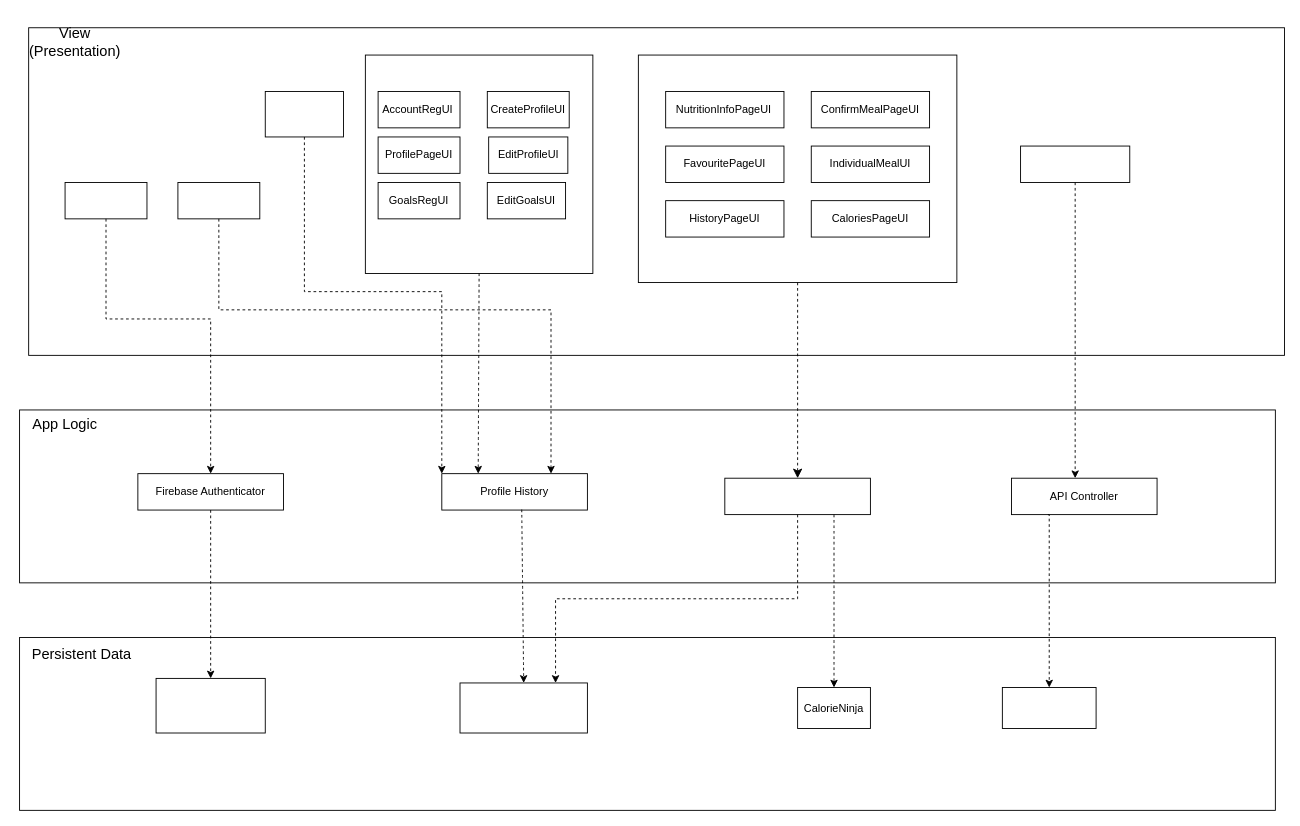
Some shapes in this 1300 by 826 pixel diagram are drawn without their labels. The shapes that lost their labels are listed below. From the top down, each one's box as (x1, y1, x2, y2) in pixels, then its label:
(264, 91, 344, 137): CommunityUI
(1020, 145, 1130, 182): ScannerPageUI
(64, 182, 147, 219): LoginUI
(177, 182, 260, 219): HomePageUI
(724, 477, 870, 515): Meal History
(155, 677, 265, 733): Firebase Authentication Database
(459, 682, 587, 733): Firestore Database
(1001, 687, 1096, 728): OpenAI
